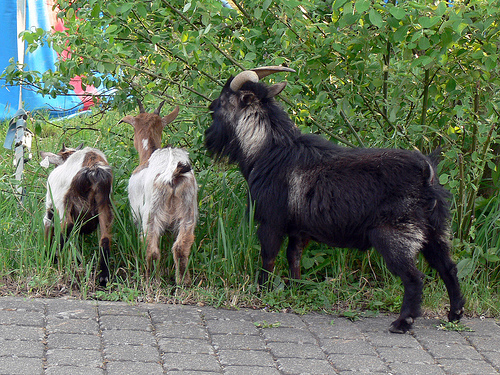goat: (203, 64, 466, 335), (119, 98, 201, 288), (40, 141, 115, 287)
